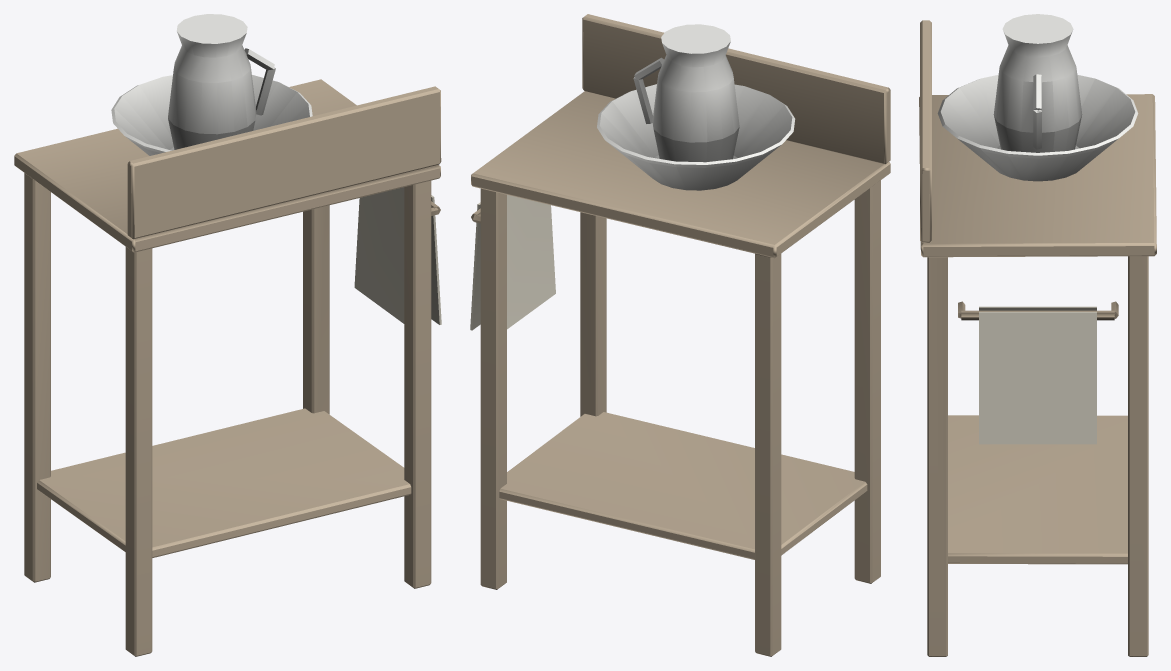
Rendered from washstand.glb.
The picture shows the model from 3 angles, left to right: view 1: azimuth 30°, elevation 25°; view 2: azimuth 150°, elevation 25°; view 3: azimuth 270°, elevation 25°; orthographic projection.
Parts seen in each view (by area): view 1: static; view 2: static; view 3: static.
Boxes of the visible parts, left/top/right/bottom form: static: left=14, top=14, right=441, bottom=656; static: left=470, top=14, right=890, bottom=656; static: left=919, top=14, right=1156, bottom=656.
Size of the model in its own units: 0.6578 by 1.03 by 0.403.
